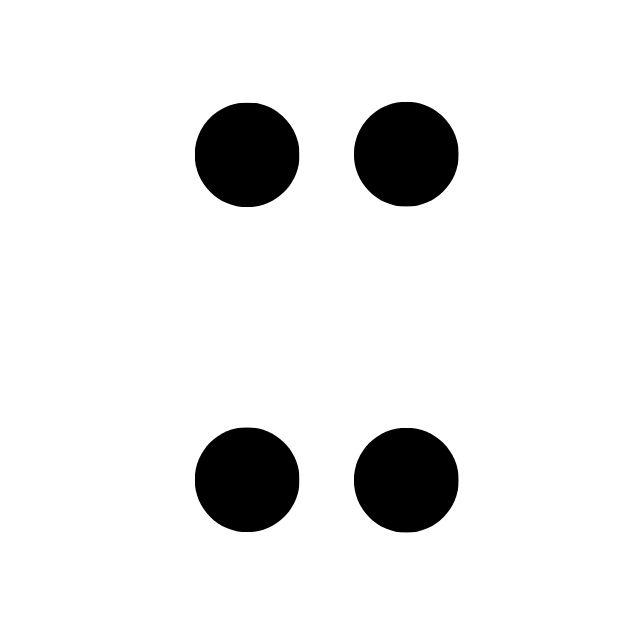ito: (195, 102, 460, 534)
